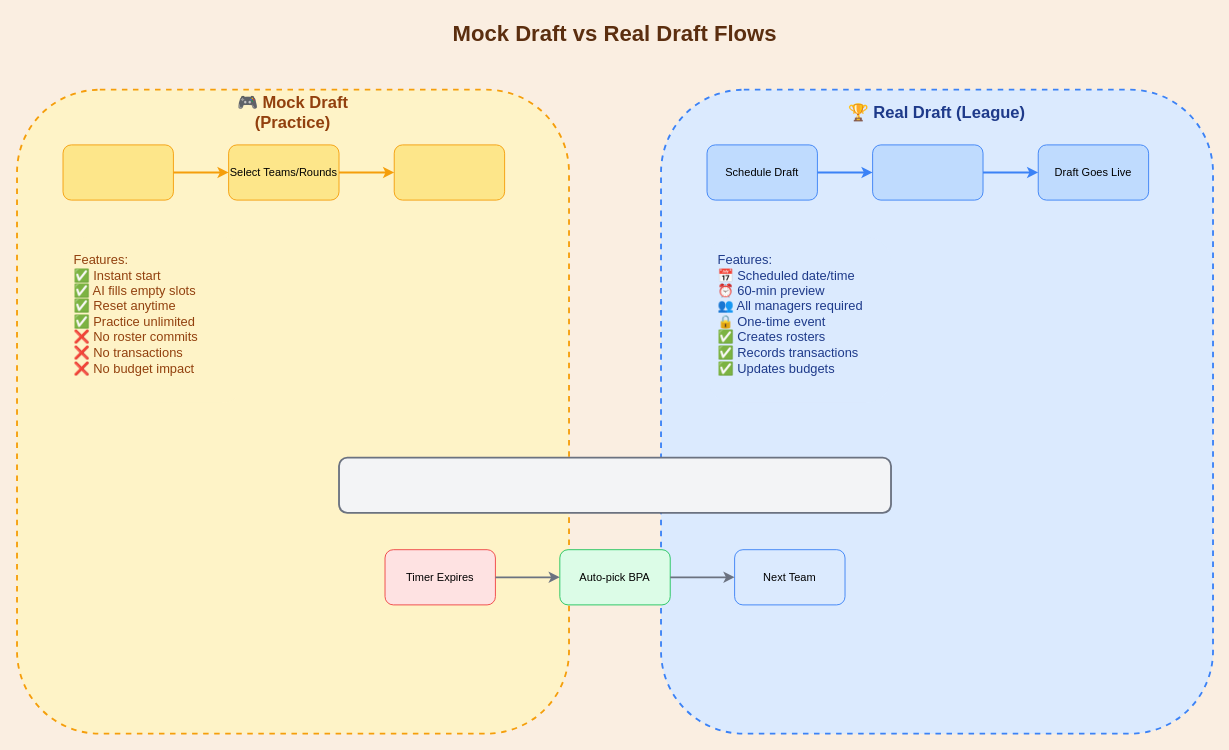
Image size: 1229x750. Some labels were removed from this diagram. Here are the shapes that lost their labels. From the top down, the box of each, then its label:
(62, 144, 173, 200): Create Mock Draft
(393, 144, 505, 200): Start Immediately
(872, 144, 983, 200): 60-min Preview
(338, 456, 891, 513): Pick Timer System
